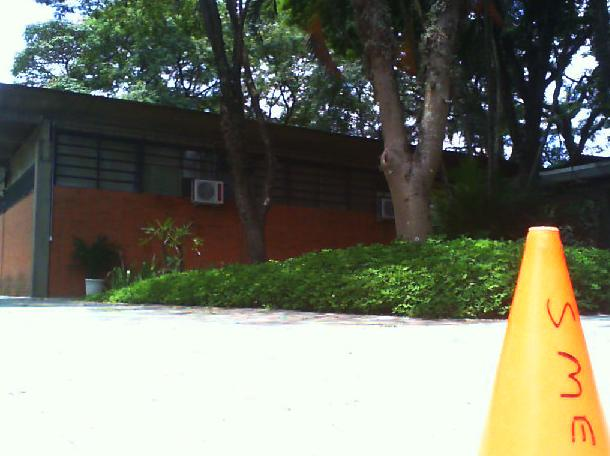0 cone: (475, 226, 610, 456)
